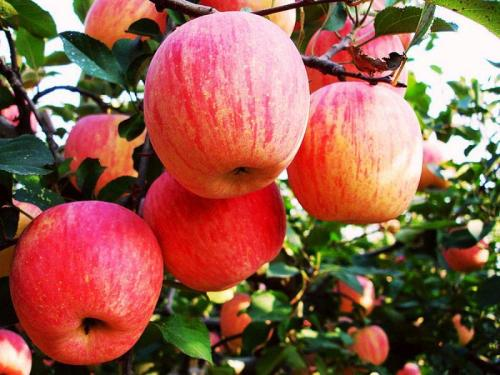apple: (143, 11, 311, 198), (9, 200, 163, 363)
obscured(0)_apple: (286, 81, 423, 223)
obscured(1)_apple: (143, 166, 288, 292)
